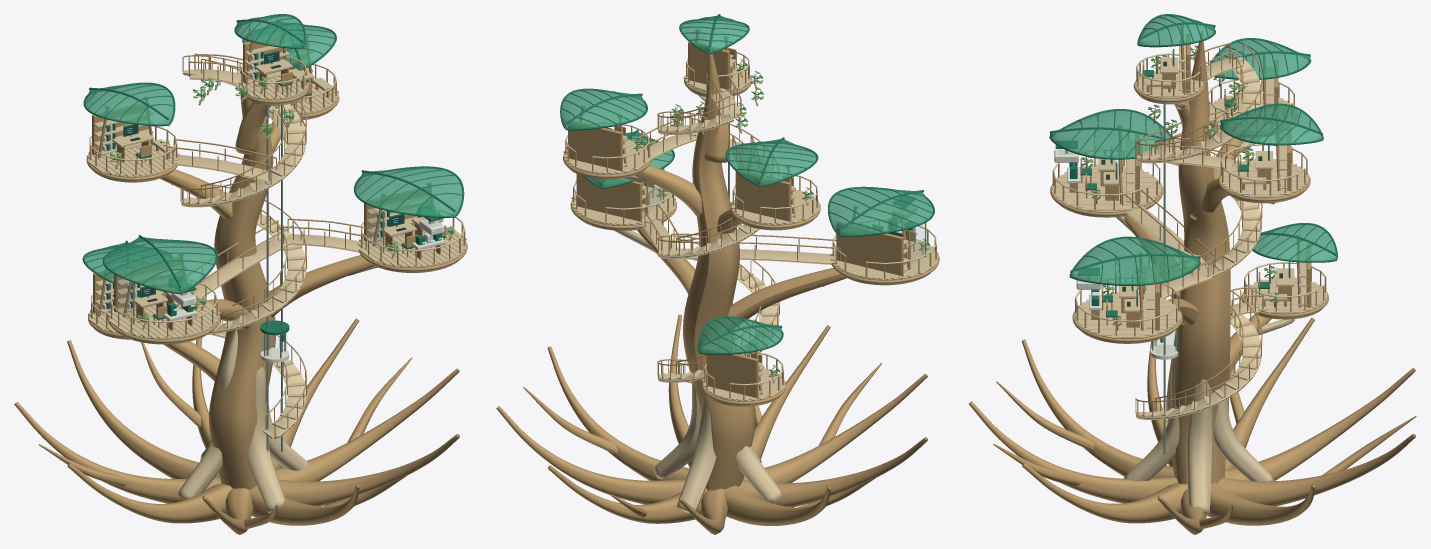
The model's file is opensource-refined-v1.glb.
3 renders of one model, left to right at view 1: azimuth 30°, elevation 25°; view 2: azimuth 150°, elevation 25°; view 3: azimuth 270°, elevation 25°, orthographic. The views are drawn at different scales.
Visible parts, largest first — view 1: tree_structural_wood, tree_cut_wood, tree_leaf_glass, tree_enamel, tree_bronze_alloy, tree_clear_glass, tree_ivory, tree_leaf_fresh, tree_display, tree_leaf_dark; view 2: tree_structural_wood, tree_cut_wood, tree_leaf_glass, tree_enamel, tree_clear_glass, tree_leaf_dark; view 3: tree_structural_wood, tree_cut_wood, tree_leaf_glass, tree_enamel, tree_leaf_dark, tree_bronze_alloy, tree_leaf_fresh.
Boxes of the visible parts, x1=… form: tree_structural_wood: x1=14, y1=28, x2=467, y2=534; tree_cut_wood: x1=86, y1=42, x2=467, y2=513; tree_leaf_glass: x1=84, y1=15, x2=462, y2=292; tree_enamel: x1=82, y1=14, x2=464, y2=319; tree_bronze_alloy: x1=105, y1=26, x2=431, y2=451; tree_clear_glass: x1=118, y1=205, x2=382, y2=322; tree_ivory: x1=102, y1=53, x2=445, y2=320; tree_leaf_fresh: x1=110, y1=76, x2=453, y2=326; tree_display: x1=124, y1=52, x2=431, y2=296; tree_leaf_dark: x1=110, y1=78, x2=454, y2=322; tree_structural_wood: x1=496, y1=34, x2=939, y2=534; tree_cut_wood: x1=563, y1=49, x2=939, y2=513; tree_leaf_glass: x1=562, y1=15, x2=932, y2=352; tree_enamel: x1=560, y1=14, x2=934, y2=356; tree_clear_glass: x1=648, y1=183, x2=924, y2=266; tree_leaf_dark: x1=633, y1=61, x2=930, y2=376; tree_structural_wood: x1=969, y1=28, x2=1416, y2=534; tree_cut_wood: x1=1052, y1=42, x2=1327, y2=514; tree_leaf_glass: x1=1050, y1=15, x2=1336, y2=283; tree_enamel: x1=1049, y1=14, x2=1337, y2=317; tree_leaf_dark: x1=1082, y1=45, x2=1278, y2=326; tree_bronze_alloy: x1=1073, y1=25, x2=1299, y2=454; tree_leaf_fresh: x1=1081, y1=47, x2=1276, y2=324.
Bounding box in the file's own units: 15.28 × 18.32 × 15.06.
